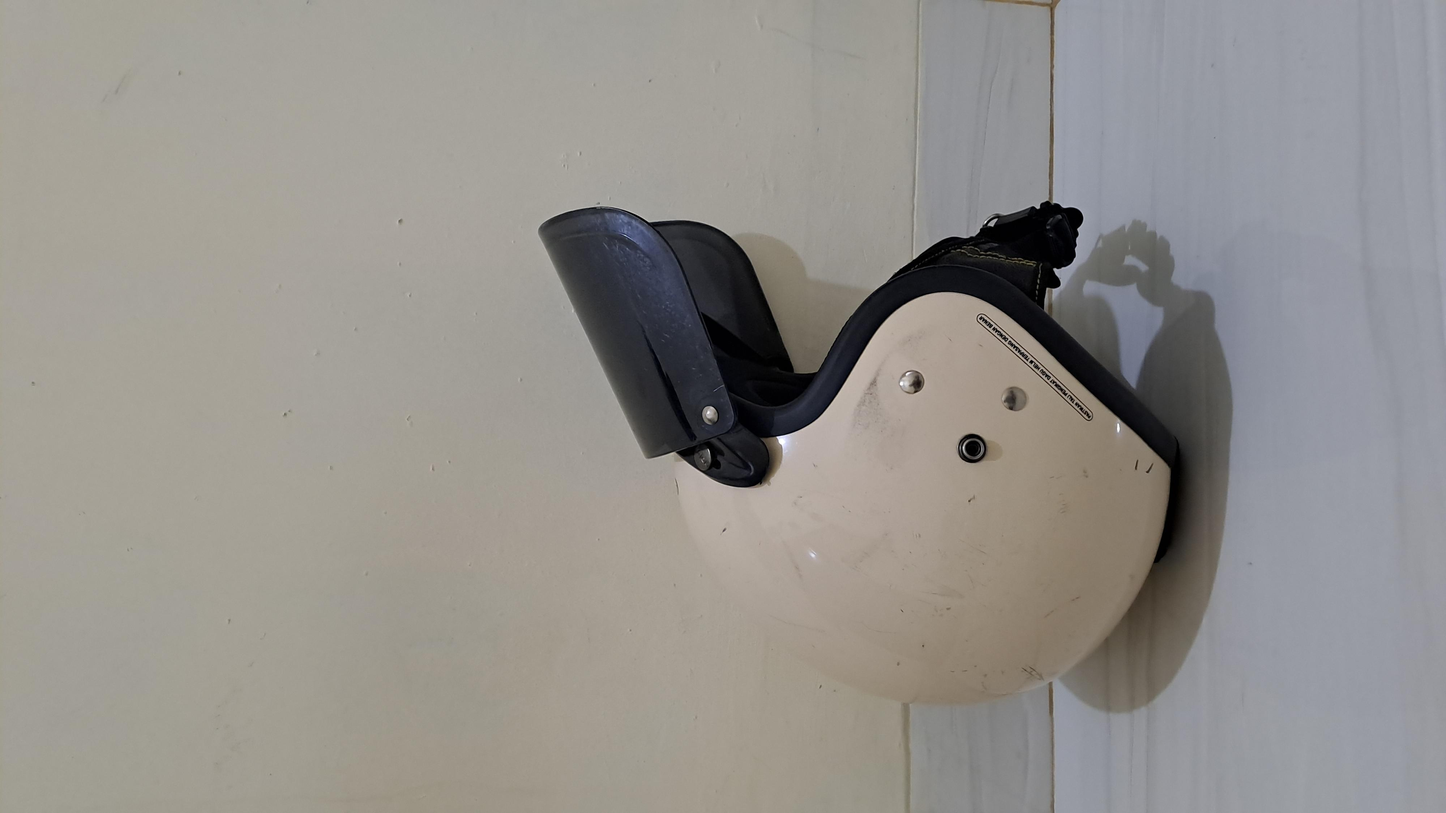helmet: (144, 289, 1119, 683)
